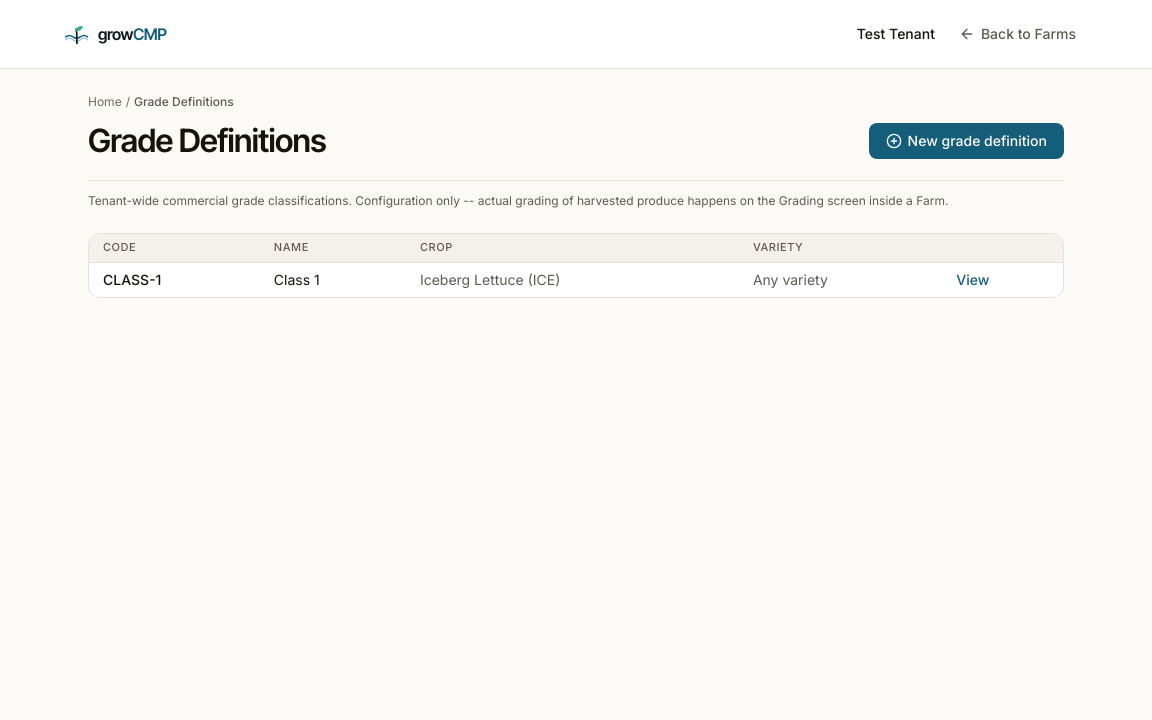
it: GradeDefinitionsPage › surfaces a duplicate-code conflict without losing the form
expect the text "CLASS-1" is shown: met, box [89,262,260,296]
Click the button "New grade definition": (966, 141) [869,123,1064,159]
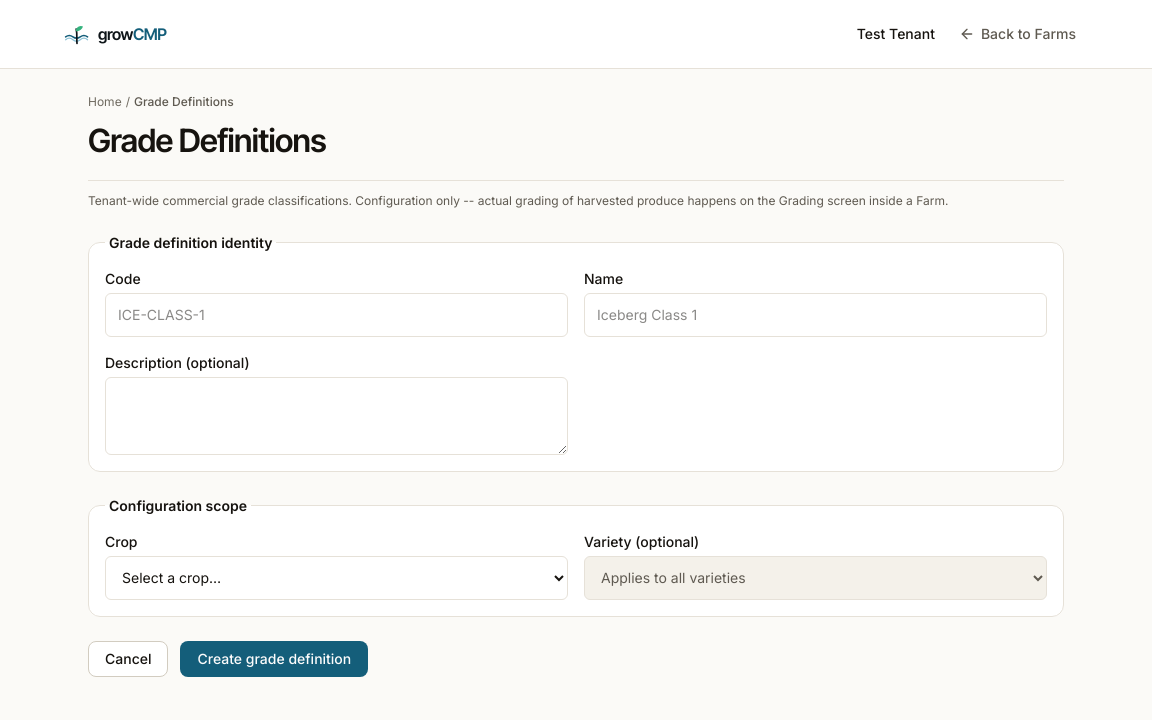
In the field with placeholder "ICE-CLASS-1": (336, 315) [105,293,568,337], type "CLASS-1"
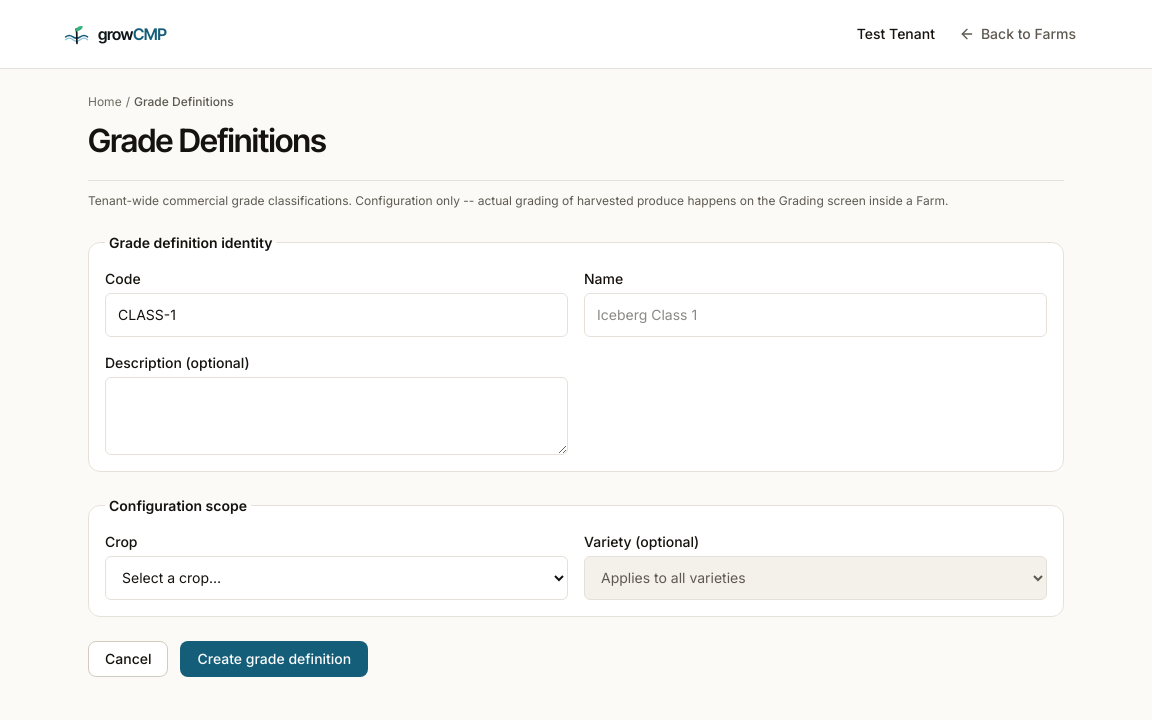
In the field with placeholder "Iceberg Class 1": (816, 315) [584,293,1047,337], type "Class 1 dup"
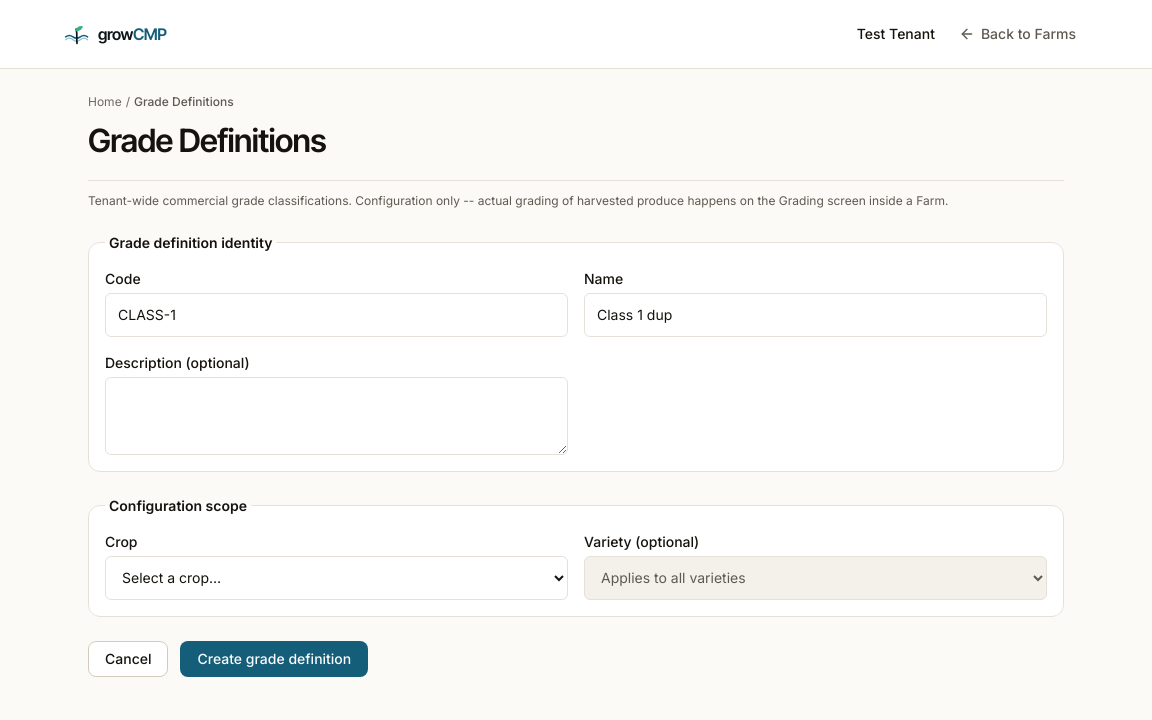
Select "Iceberg Lettuce (ICE)" in the dropdown labelled "Crop": (336, 578) [105,556,568,600]
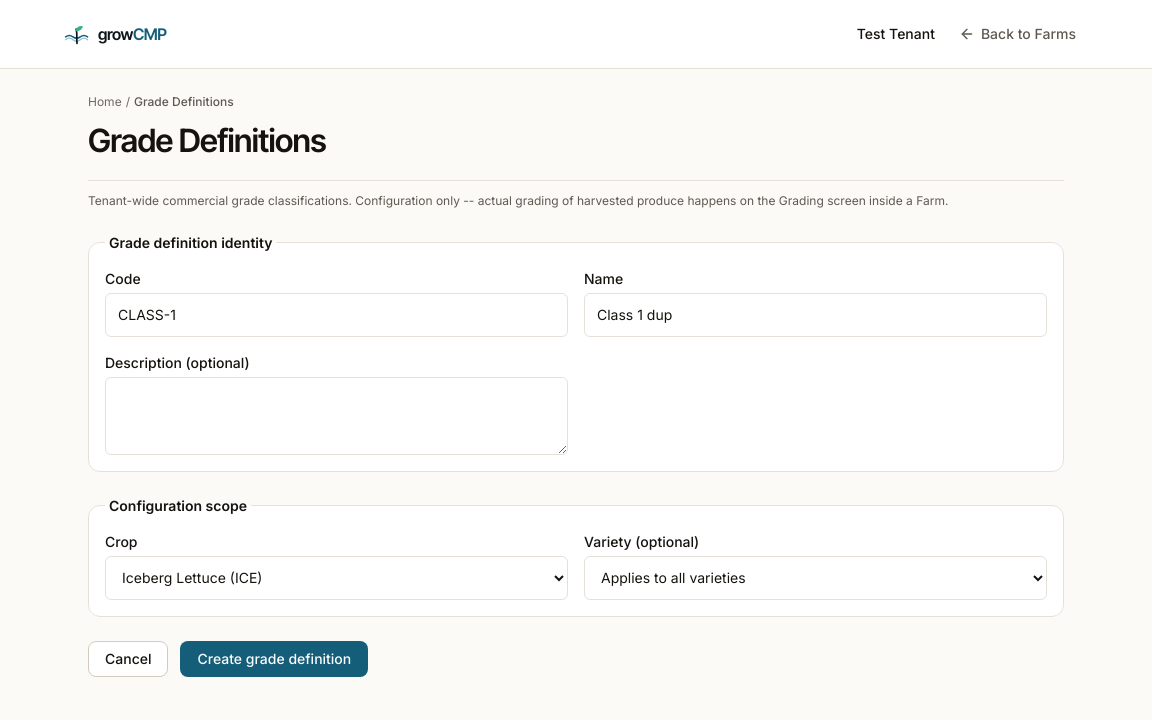
Click the button "Create grade definition": (274, 659) [180,641,368,677]
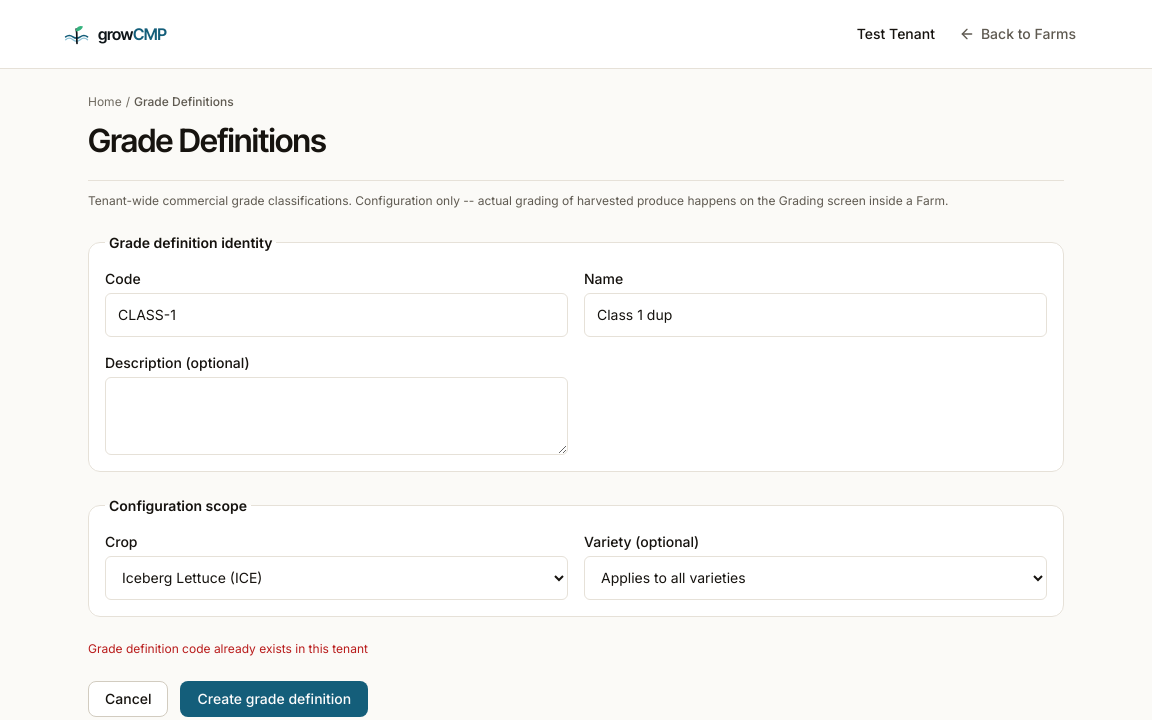
expect the text "Grade definition code already exists in this tenant" is shown: met, box [88,641,368,656]
